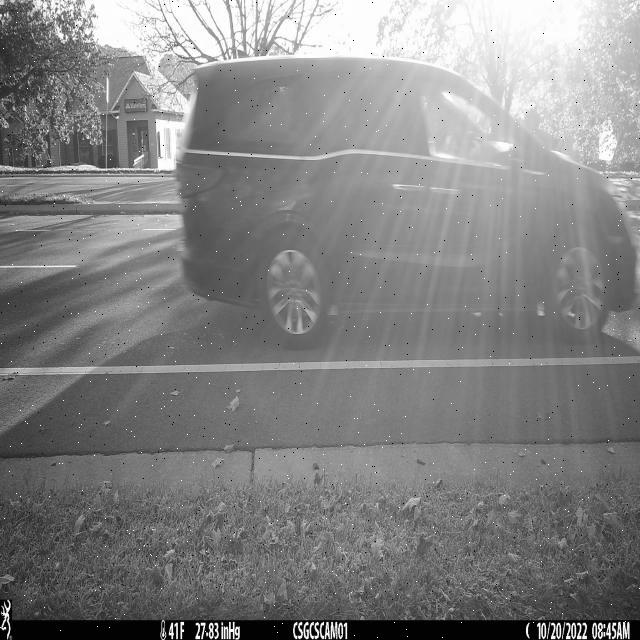Van: (174, 57, 635, 354)
